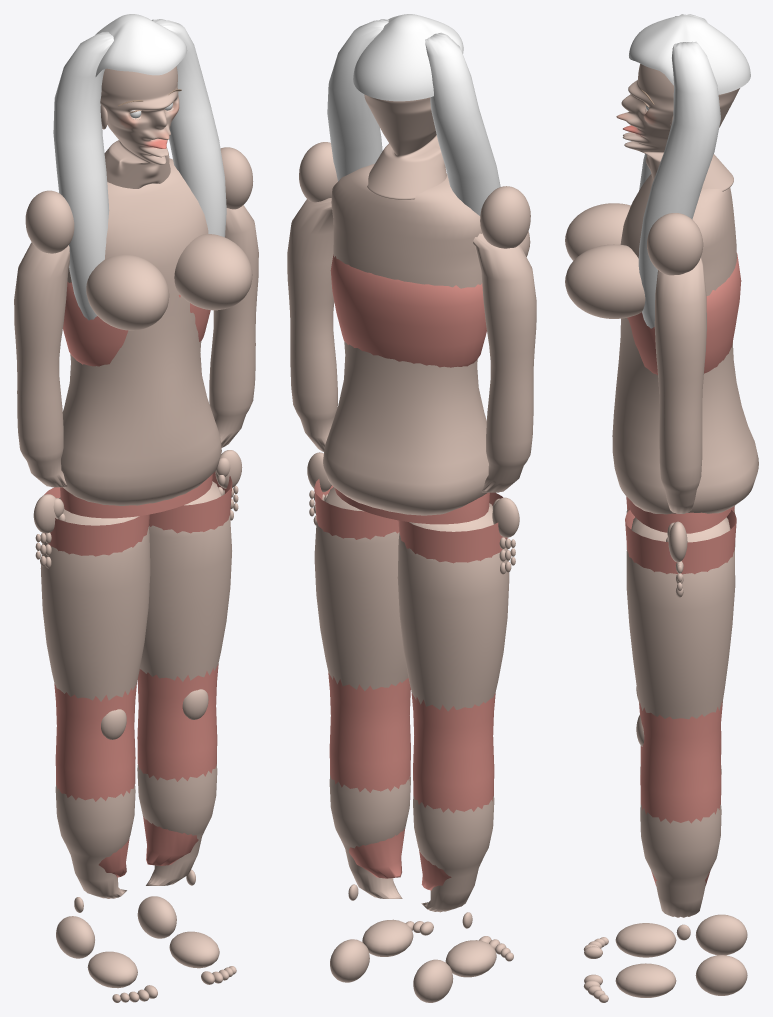
The model's file is female_slender.glb.
3 renders of one model, left to right at view 1: azimuth 30°, elevation 25°; view 2: azimuth 150°, elevation 25°; view 3: azimuth 270°, elevation 25°, orthographic.
Visible parts, largest first — view 1: Body_female_slender, Garment_Leggings, Hair_long_wavy, Garment_Top; view 2: Body_female_slender, Garment_Leggings, Hair_long_wavy, Garment_Top; view 3: Body_female_slender, Hair_long_wavy, Garment_Leggings, Garment_Top.
Part boxes in pixels (left/top/right/bottom): Body_female_slender: left=14, top=66, right=258, bottom=1002; Garment_Leggings: left=44, top=471, right=232, bottom=877; Hair_long_wavy: left=53, top=14, right=226, bottom=320; Garment_Top: left=63, top=282, right=210, bottom=366; Body_female_slender: left=287, top=94, right=536, bottom=1002; Garment_Leggings: left=314, top=479, right=507, bottom=890; Hair_long_wavy: left=327, top=14, right=500, bottom=215; Garment_Top: left=330, top=254, right=486, bottom=367; Body_female_slender: left=565, top=63, right=758, bottom=1002; Hair_long_wavy: left=629, top=14, right=750, bottom=328; Garment_Leggings: left=625, top=496, right=736, bottom=885; Garment_Top: left=627, top=253, right=741, bottom=374.
Bounding box in the file's own units: 0.4803 × 1.82 × 0.334.
